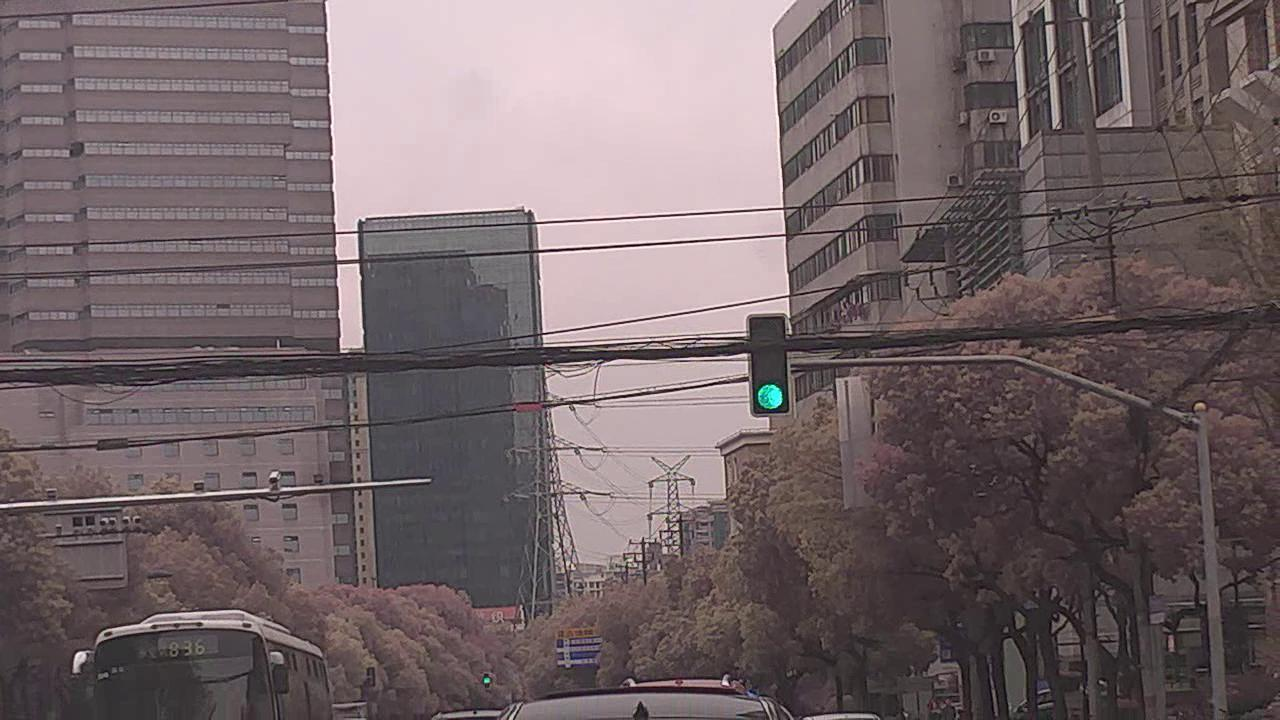traffic_light: (748, 313, 793, 418)
